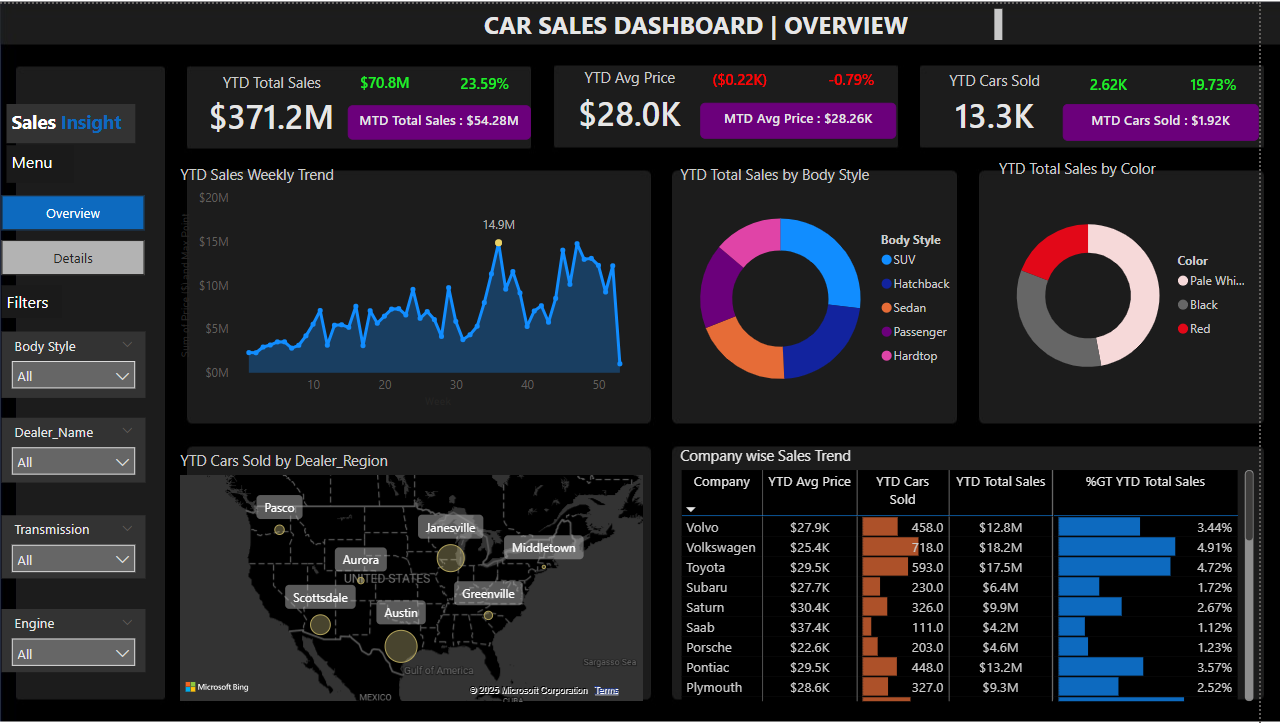

This screenshot's page, from the dashboard's own definition file:
{"tool":"powerbi","page":{"name":"Overview","canvas":[1280,720],"ordinal":0},"visuals":[{"type":"card","title":"YTD Total Sales","fields":{"Values":["car_data.YTD Total Sales"]},"box":[215.7,67.1,152.9,70],"z":0},{"type":"card","fields":{"Values":["car_data.Sales Difference"]},"box":[368.6,65.7,74.3,30],"z":1000},{"type":"card","fields":{"Values":["car_data.YoY Sales Growth"]},"box":[460,65.7,91.4,31.4],"z":2000},{"type":"card","fields":{"Values":["car_data.MTD KPI"]},"box":[368.6,101.4,182.9,34.3],"z":3000},{"type":"card","title":"YTD Avg Price","fields":{"Values":["car_data.YTD Avg Price"]},"box":[580,62.9,141.4,74.3],"z":4000},{"type":"card","fields":{"Values":["car_data.Avg Price Diff"]},"box":[721.4,60,78.6,35.7],"z":5000},{"type":"card","fields":{"Values":["car_data.YoY Avg Price Growth"]},"box":[825.7,60,91.4,35.7],"z":6000},{"type":"card","fields":{"Values":["car_data.MTD Avg Price KPI"]},"box":[721.4,98.6,195.7,35.7],"z":7000},{"type":"card","title":"YTD Cars Sold","fields":{"Values":["car_data.YTD Cars Sold"]},"box":[945.7,65.7,138.6,71.4],"z":8000},{"type":"card","fields":{"Values":["car_data.Cars Sold Diff"]},"box":[1084.3,68.6,91.4,28.6],"z":9000},{"type":"card","fields":{"Values":["car_data.YoY Car Sold Growth"]},"box":[1188.6,67.1,91.4,31.4],"z":10000},{"type":"card","fields":{"Values":["car_data.MTD Car Sold KPI"]},"box":[1084.3,100,195.7,37.1],"z":11000},{"type":"areaChart","title":"YTD Sales Weekly Trend","fields":{"Category":["Calendar Table.Week"],"Y":["Sum(car_data.Price ($))","car_data.Max Point"]},"box":[196.2,160.6,467,248.7],"z":12000},{"type":"donutChart","fields":{"Category":["car_data.Body Style"],"Y":["car_data.YTD Total Sales"]},"box":[696.8,160.6,288.6,249.7],"z":13000},{"type":"donutChart","fields":{"Y":["car_data.YTD Total Sales"],"Category":["car_data.Color"]},"box":[1014.7,153.2,265.5,256],"z":14000},{"type":"map","fields":{"Size":["car_data.YTD Cars Sold"],"Category":["car_data.Dealer_Region"]},"box":[196.2,446,473.3,256],"z":15000},{"type":"tableEx","title":"Company wise Sales Trend ","fields":{"Values":["car_data.Company","car_data.YTD Avg Price","car_data.YTD Cars Sold","car_data.YTD Total Sales1","car_data.YTD Total Sales"]},"box":[696.8,440.7,583.4,261.3],"z":16000},{"type":"textbox","box":[414.3,0,614.3,41.4],"z":17000},{"type":"slicer","fields":{"Values":["car_data.Body Style"]},"box":[22,327.4,143.8,66.1],"z":18000},{"type":"slicer","fields":{"Values":["car_data.Dealer_Name"]},"box":[22,413.4,143.8,65.1],"z":19000},{"type":"slicer","fields":{"Values":["car_data.Transmission"]},"box":[22,511,143.8,63],"z":20000},{"type":"slicer","fields":{"Values":["car_data.Engine"]},"box":[22,605.5,143.8,63],"z":21000},{"type":"textbox","box":[27.3,99.7,129.1,38.8],"z":22000},{"type":"textbox","box":[27.3,141.7,67.2,37.8],"z":23000},{"type":"textbox","box":[22,281.2,60.9,32.5],"z":24000},{"type":"pageNavigator","box":[22,191,143.8,80.8],"z":25000}]}

Visuals, with their boxes on the page's 1280x720 design canvas (x1, y1, x2, y2). These are canvas units, not pixel positions in the 1281x723 screenshot, which may show the page scaled, cropped or inside an application window:
"YTD Total Sales" card: 216/67/369/137
card - car_data.Sales Difference: 369/66/443/96
card - car_data.YoY Sales Growth: 460/66/551/97
card - car_data.MTD KPI: 369/101/552/136
"YTD Avg Price" card: 580/63/721/137
card - car_data.Avg Price Diff: 721/60/800/96
card - car_data.YoY Avg Price Growth: 826/60/917/96
card - car_data.MTD Avg Price KPI: 721/99/917/134
"YTD Cars Sold" card: 946/66/1084/137
card - car_data.Cars Sold Diff: 1084/69/1176/97
card - car_data.YoY Car Sold Growth: 1189/67/1280/98
card - car_data.MTD Car Sold KPI: 1084/100/1280/137
"YTD Sales Weekly Trend" areaChart: 196/161/663/409
donutChart - car_data.Body Style x car_data.YTD Total Sales: 697/161/985/410
donutChart - car_data.YTD Total Sales x car_data.Color: 1015/153/1280/409
map - car_data.YTD Cars Sold x car_data.Dealer_Region: 196/446/670/702
"Company wise Sales Trend " tableEx: 697/441/1280/702
textbox: 414/0/1029/41
slicer - car_data.Body Style: 22/327/166/394
slicer - car_data.Dealer_Name: 22/413/166/478
slicer - car_data.Transmission: 22/511/166/574
slicer - car_data.Engine: 22/606/166/668
textbox: 27/100/156/138
textbox: 27/142/94/180
textbox: 22/281/83/314
pageNavigator: 22/191/166/272
